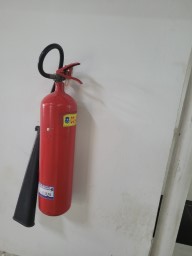fire_extinguisher: (32, 145, 163, 207)
